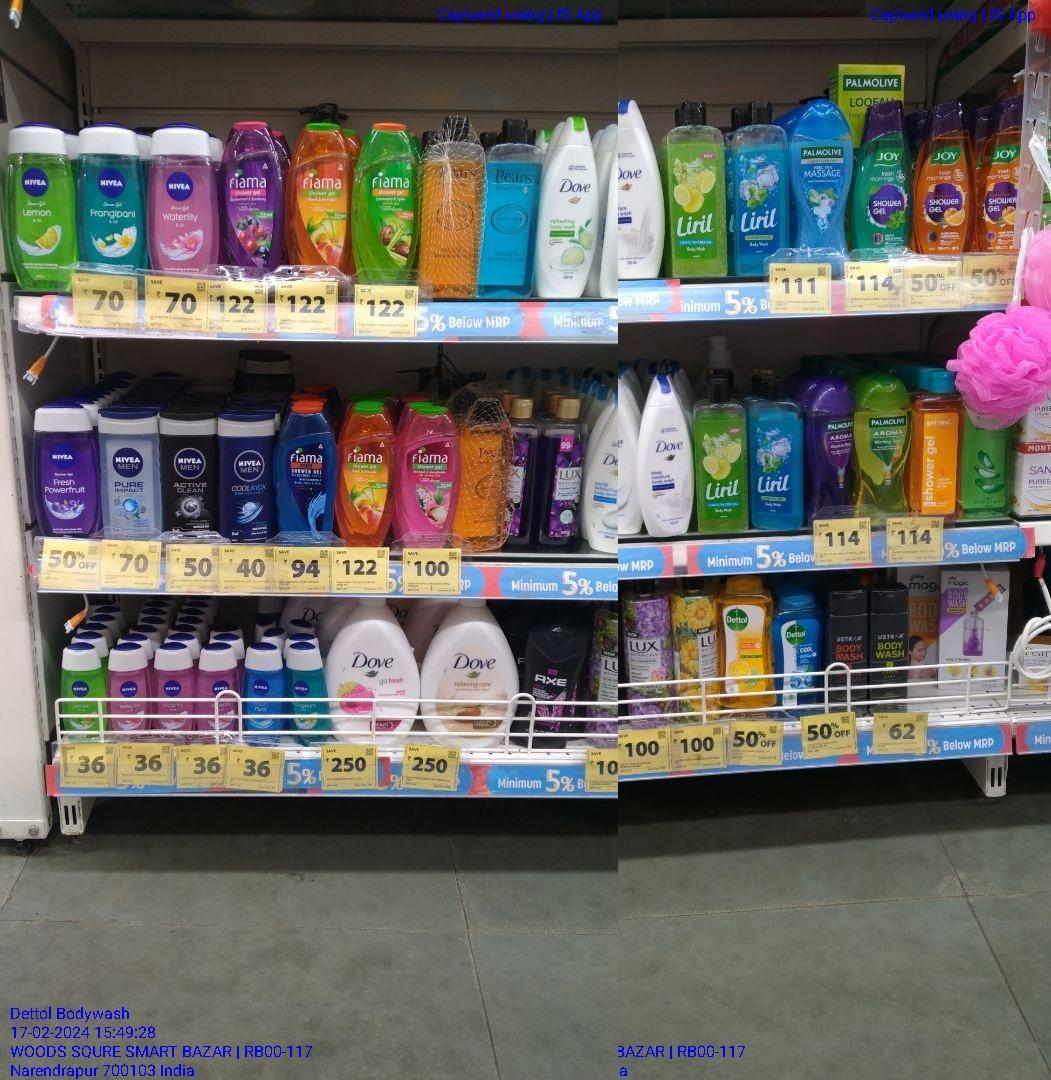Dettol_Bodywash_Cool: (779, 582, 822, 716)
Dettol_Bodywash_Refresh: (714, 572, 775, 711)
Dove_Deep_Moisture_Body_Wash_250ML: (619, 97, 664, 278), (639, 382, 692, 534)
Dove_Refreshing_Body_Wash_250ML: (537, 112, 597, 298)
Fiama_Shower_Gel_Lemongrass_and_Jojoba_250ML: (355, 117, 413, 284)
Fiama_Shower_Gel_Patchouli_and_Macadamia_250ML: (394, 402, 451, 545)
Fiama_Shower_Gel_Peach_and_Avocado_250ML: (288, 121, 349, 271), (337, 396, 389, 549)
Joy_Shower_Gel_Mandarin_and_Lemongrass_250ML: (913, 102, 968, 252), (972, 94, 1017, 256)
Joy_Shower_Gel_Mint_and_Eucalyptus_250ML: (851, 97, 909, 253)
Liril_Cooling_Mint_Body_Wash_250ML: (731, 106, 787, 280), (752, 377, 800, 530)
Liril_Lime_and_Tea_Tree_Oil_Body_Wash_250ML: (666, 100, 725, 281), (696, 377, 751, 535)
Lux_Black_Orchid_Scent_and_Juniper_Oil_Body_Wash_245ML: (547, 398, 586, 550)
Nivea_Shower_Gel_Frangipani_and_Oil_250ML: (80, 128, 143, 264)
Nivea_Shower_Gel_Fresh_Powerfruit_250ML: (30, 402, 97, 538)
Nivea_Shower_Gel_Lemon_and_Oil_250ML: (5, 126, 80, 294)
Nivea_Shower_Gel_Waterlily_and_Oil_250ML: (148, 126, 220, 272)
Palmolive_Aroma_Moments_Feel_The_Massage_Shower_Gel_250ML: (794, 95, 846, 263)
Palmolive_Aroma_Morning_Tonic_Shower_Gel_250ML: (857, 370, 911, 513)
Palmolive_Aroma_Relax_250ML: (801, 376, 855, 515)
Pears_Pure_Glycerin_and_Mint_Extracts_Body_Wash_250ML: (484, 111, 534, 296)
